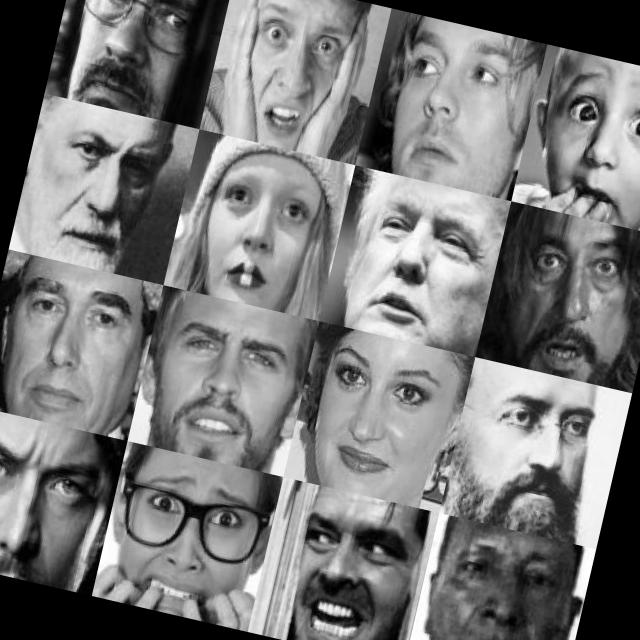angry: (0, 420, 119, 586)
fear: (103, 454, 270, 626), (211, 0, 375, 144), (501, 210, 640, 370), (530, 57, 640, 224)
happy: (304, 328, 458, 496), (270, 488, 418, 640)
neutral: (442, 366, 598, 544), (13, 104, 178, 272), (136, 301, 292, 463), (368, 16, 524, 178), (180, 150, 334, 304), (338, 189, 486, 346), (0, 256, 137, 422), (417, 533, 577, 640)
sad: (66, 0, 215, 111)
